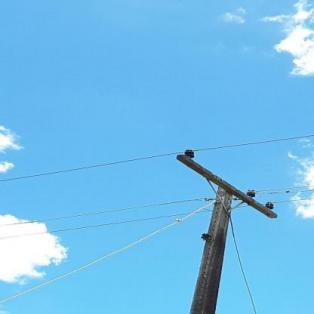Poste: (110, 177, 246, 314)
